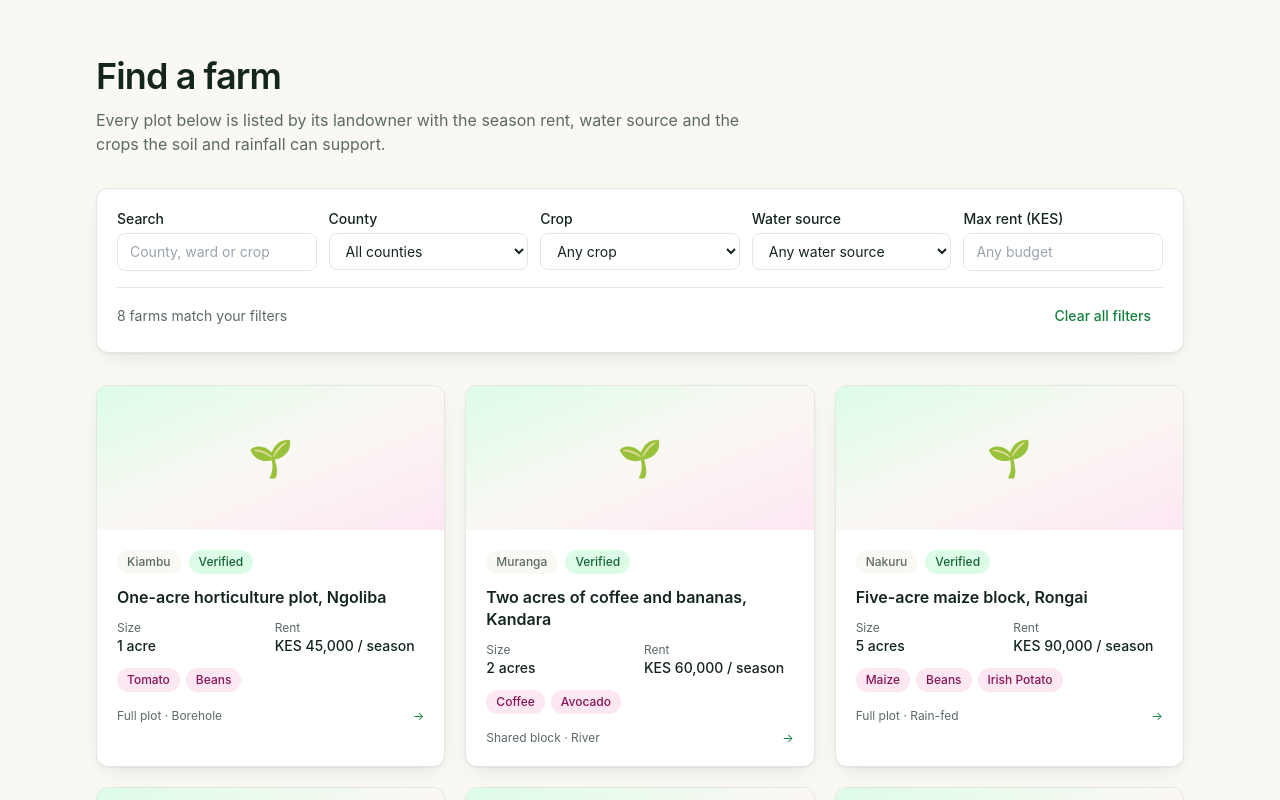
BrowseFarms › shows an empty state when nothing matches, and recovers on reset
This screenshot has width=1280, height=800.
Later steps or results of the test are not shown.
Select "Kilifi" in the dropdown labelled "County" at x=428, y=252, box [329,233,528,270]
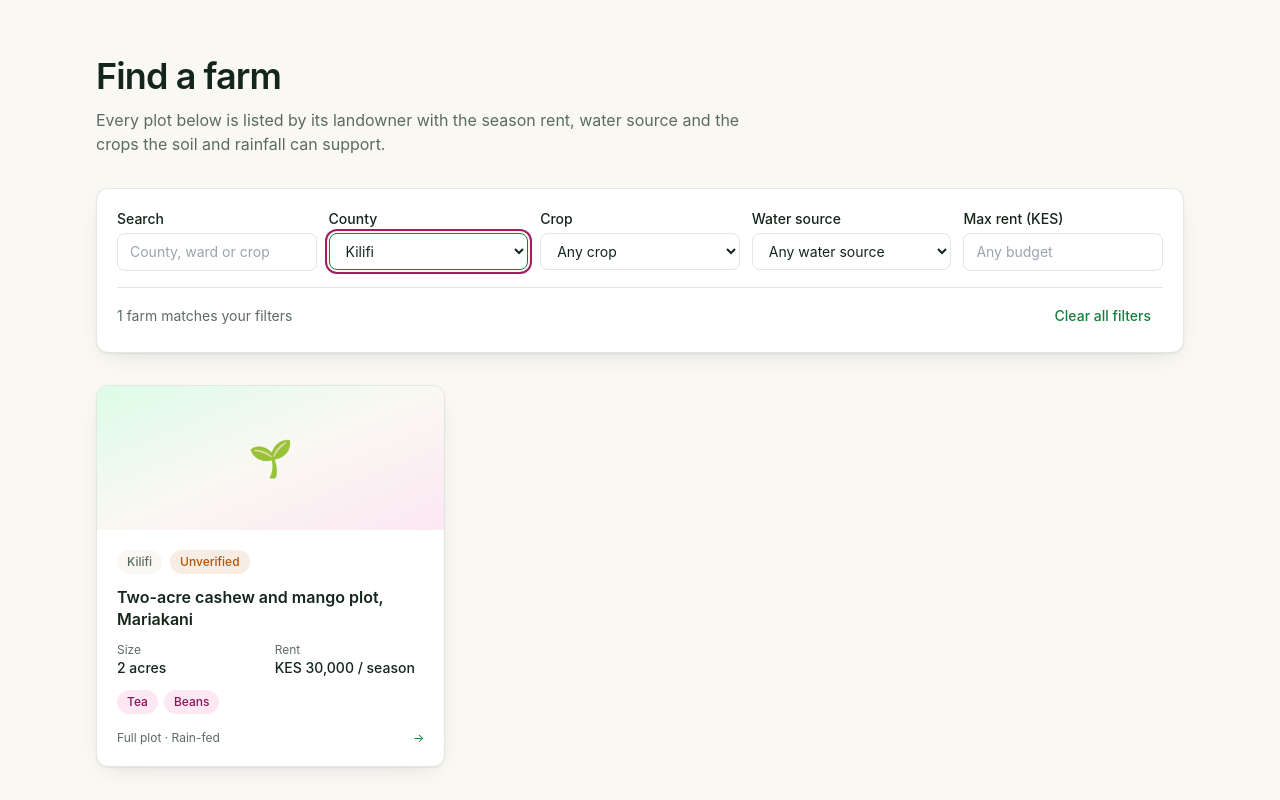
Select "Maize" in the dropdown labelled "Crop" at x=640, y=252, box [540,233,740,270]
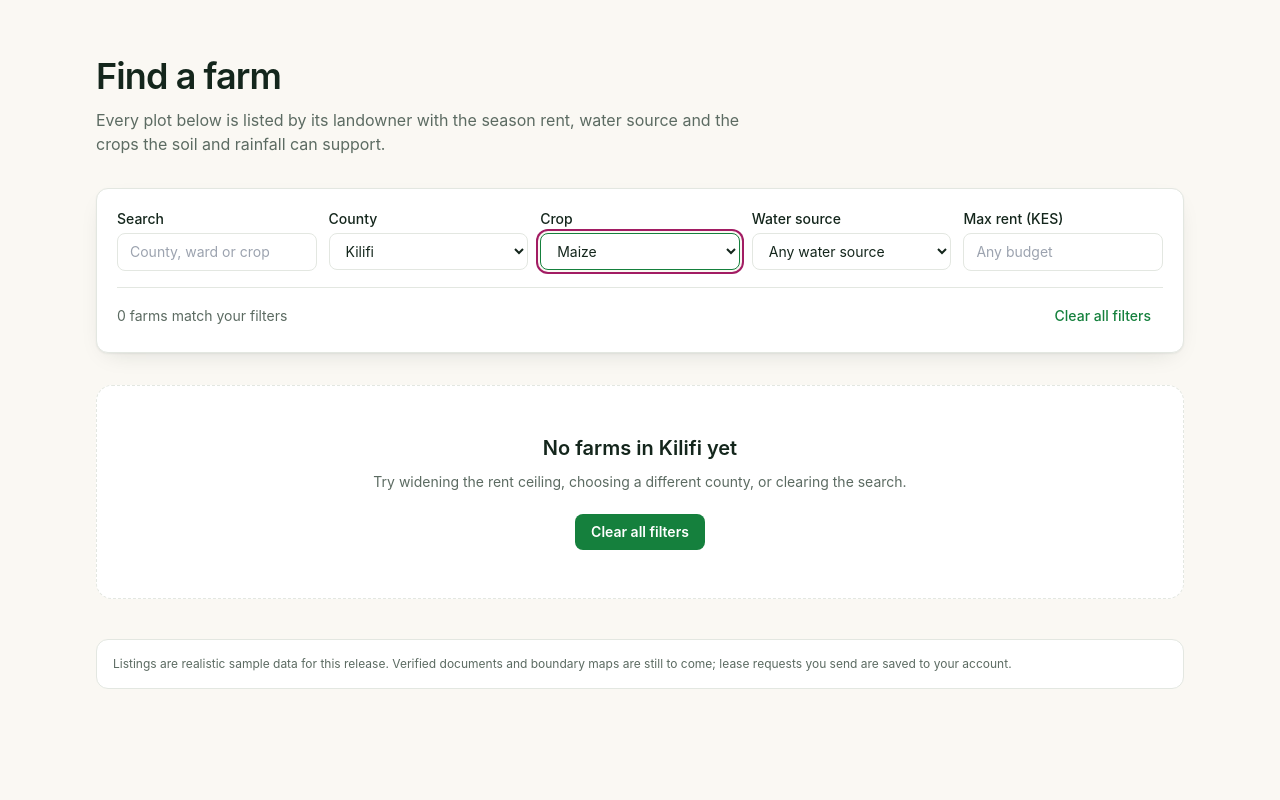
Expected: the heading "No farms in Kilifi yet" is shown, [543,436,737,460]
